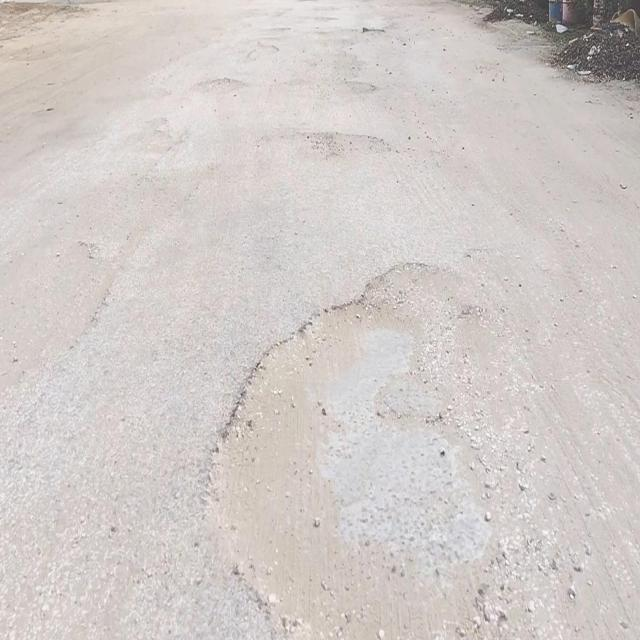Potholes: (203, 258, 513, 640)
